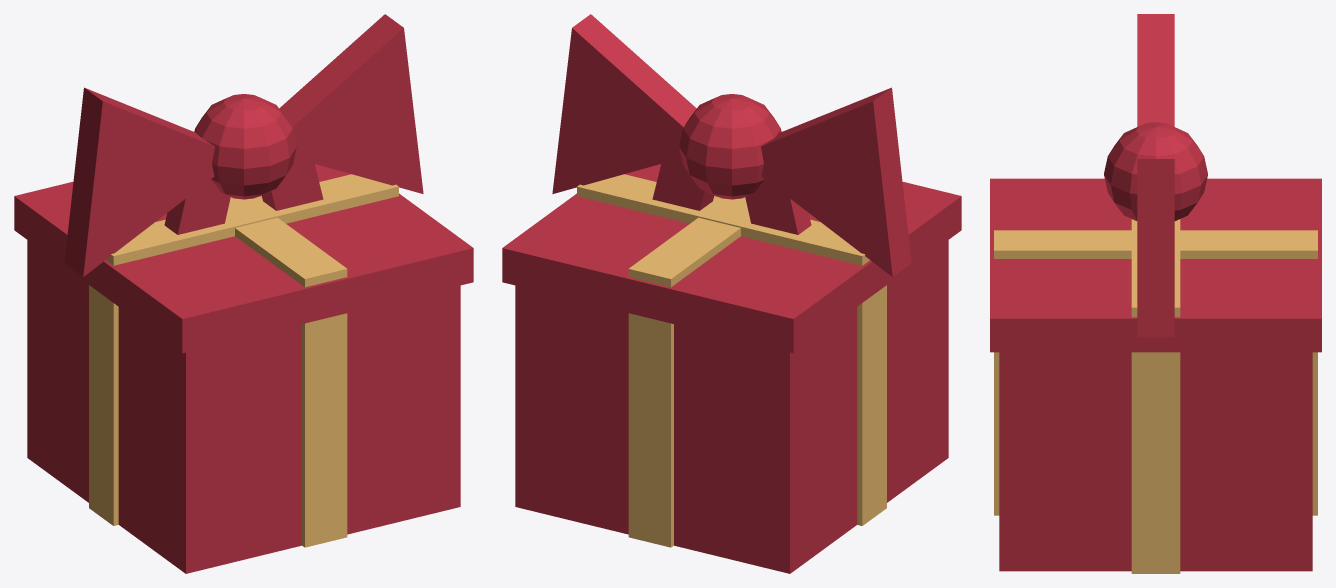
File: three-d-christmas-village-christmas-village-square-gift-ab3f17d9.glb
The picture shows the model from 3 angles, left to right: view 1: azimuth 30°, elevation 25°; view 2: azimuth 150°, elevation 25°; view 3: azimuth 270°, elevation 25°; orthographic projection.
Visible parts, largest first — view 1: square-gift; view 2: square-gift; view 3: square-gift.
Part boxes in pixels (left/top/right/bottom): square-gift: left=14, top=14, right=473, bottom=573; square-gift: left=502, top=14, right=961, bottom=573; square-gift: left=990, top=14, right=1321, bottom=573.
Size of the model in its own units: 0.52 by 0.62 by 0.445.
